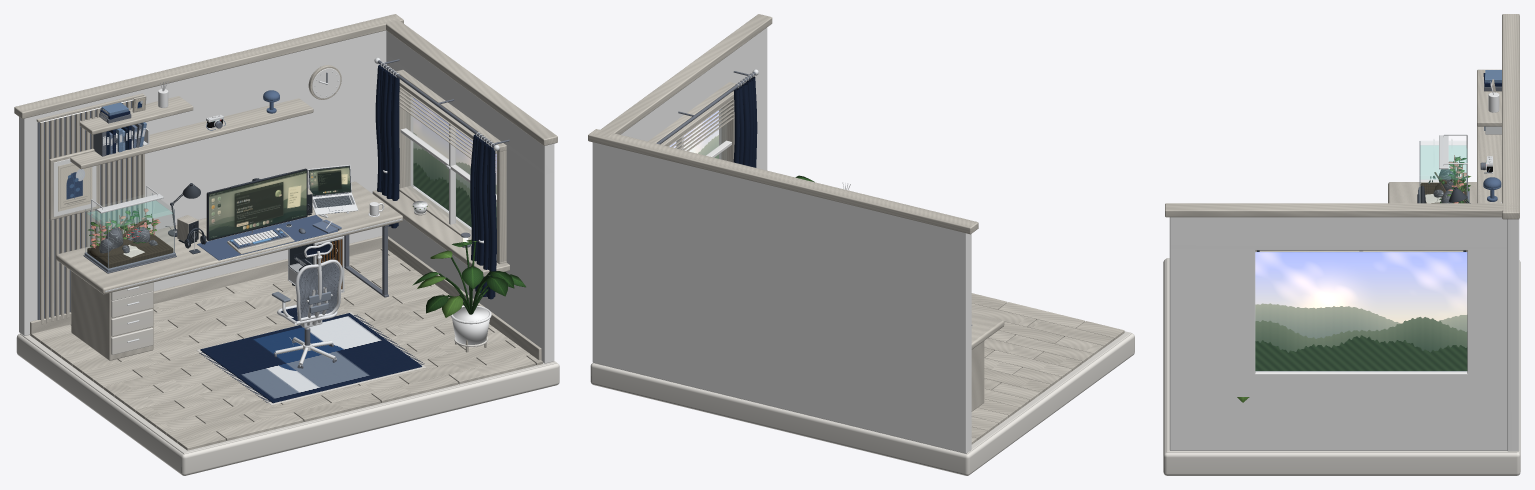
Rendered from room.glb.
3 renders of one model, left to right at view 1: azimuth 30°, elevation 25°; view 2: azimuth 150°, elevation 25°; view 3: azimuth 270°, elevation 25°, orthographic. The views are drawn at different scales.
Parts seen in each view (by area): view 1: Room_Sand_plaster, Room_Walnut_grain, Room_Oak_grain_0, Room_Oak_grain_1, Room_Walnut_edges, Room_Oak_grain_2, Room_Woven_wool, Room_Aquarium_glass, Room_Linen_curtain, Room_Walnut_dark, Room_Graphite_powder_coat, Room_Monitor_glass (+18 smaller); view 2: Room_Sand_plaster, Room_Walnut_grain, Room_Walnut_edges, Room_Oak_grain_0, Room_Oak_grain_2, Room_Oak_grain_1, Room_Linen_curtain, Room_Walnut_dark, Room_Afternoon_sky, Room_Aquarium_glass; view 3: Room_Sand_plaster, Room_Afternoon_sky, Room_Walnut_grain, Room_Walnut_edges, Room_Walnut_dark, Room_Water_clear_teal, Room_Aquarium_glass, Room_Brushed_aluminum, Room_Seiryu_stone.
Part boxes in pixels (x1,y1,x2,y2): Room_Sand_plaster: (19,30,554,363); Room_Walnut_grain: (14,14,557,360); Room_Oak_grain_0: (51,248,530,450); Room_Oak_grain_1: (30,263,535,440); Room_Walnut_edges: (16,211,559,475); Room_Oak_grain_2: (40,249,542,442); Room_Woven_wool: (200,313,421,403); Room_Aquarium_glass: (86,93,496,267); Room_Linen_curtain: (199,65,496,402); Room_Walnut_dark: (20,282,556,454); Room_Graphite_powder_coat: (37,59,509,368); Room_Monitor_glass: (209,170,306,239); Room_Sand_plaster: (592,27,971,453); Room_Walnut_grain: (588,14,1004,411); Room_Walnut_edges: (590,333,1134,475); Room_Oak_grain_0: (971,303,1124,432); Room_Oak_grain_2: (971,293,1113,440); Room_Oak_grain_1: (971,302,1103,444); Room_Linen_curtain: (733,76,757,167); Room_Walnut_dark: (594,331,1131,454); Room_Afternoon_sky: (669,110,718,158); Room_Aquarium_glass: (670,108,725,159); Room_Sand_plaster: (1169,217,1519,451); Room_Afternoon_sky: (1255,252,1467,371); Room_Walnut_grain: (1165,14,1519,251); Room_Walnut_edges: (1163,258,1520,475); Room_Walnut_dark: (1166,258,1517,452); Room_Water_clear_teal: (1420,145,1466,179); Room_Aquarium_glass: (1257,139,1467,251); Room_Brushed_aluminum: (1439,134,1467,195); Room_Seiryu_stone: (1433,169,1456,203).
Size of the model in its own units: 5.82 by 3.65 by 4.42.
106 materials, 26 textured.
